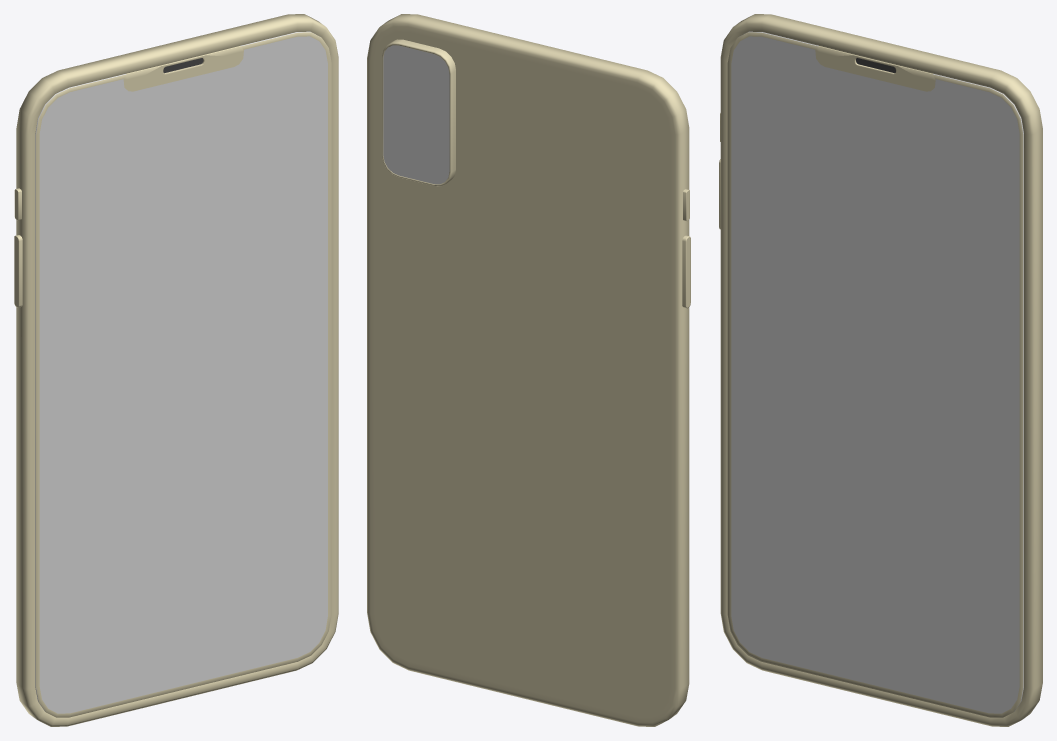
Rendered from Smartphone.fbx.
The picture shows the model from 3 angles, left to right: view 1: azimuth 30°, elevation 25°; view 2: azimuth 150°, elevation 25°; view 3: azimuth 330°, elevation 25°; orthographic projection.
Visible parts, largest first — view 1: SmartPhone_Screen, SmartPhone_Body, SmartPhone_Switch.002; view 2: SmartPhone_Body, SmartPhone_Glass_Back camera, SmartPhone_edge camera base, SmartPhone_Switch.002; view 3: SmartPhone_Screen, SmartPhone_Body.
Part boxes in pixels (x1,y1,x2,y2): SmartPhone_Screen: (35, 31, 331, 717); SmartPhone_Body: (16, 14, 338, 726); SmartPhone_Switch.002: (14, 235, 22, 307); SmartPhone_Body: (367, 14, 689, 726); SmartPhone_Glass_Back camera: (383, 45, 449, 184); SmartPhone_edge camera base: (382, 39, 455, 186); SmartPhone_Switch.002: (682, 235, 690, 308); SmartPhone_Screen: (727, 31, 1023, 717); SmartPhone_Body: (720, 14, 1042, 726).
Size of the model in its own units: 7.37 by 14.41 by 0.6665.
